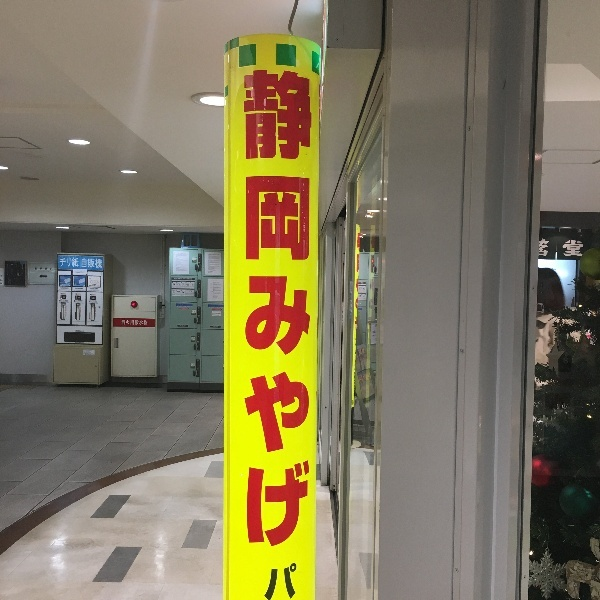text: (257, 70, 272, 551), (273, 70, 288, 551), (289, 70, 304, 551), (243, 70, 256, 551), (305, 70, 313, 551), (355, 231, 368, 408), (371, 233, 384, 341), (273, 563, 288, 600), (289, 563, 301, 600), (210, 280, 224, 300), (562, 239, 576, 258), (209, 254, 220, 275), (177, 253, 188, 273), (65, 258, 80, 269), (81, 258, 96, 269), (577, 239, 584, 258), (564, 356, 576, 365), (539, 239, 544, 258), (545, 239, 550, 258), (129, 320, 144, 326), (270, 563, 272, 600), (97, 258, 103, 269), (35, 267, 48, 271), (1, 275, 16, 278), (1, 279, 16, 282), (60, 258, 64, 269), (122, 320, 128, 326), (177, 278, 193, 280), (180, 325, 192, 327), (145, 320, 148, 326), (49, 267, 53, 271), (65, 287, 69, 290), (90, 288, 96, 290), (61, 287, 64, 290), (76, 288, 80, 290), (81, 288, 84, 290), (174, 278, 176, 280), (97, 288, 99, 290)
